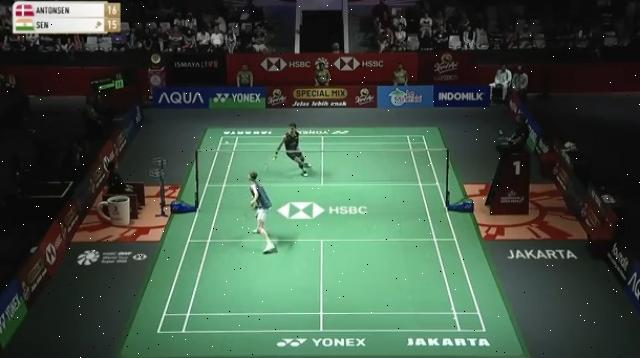Shuttlecock: (222, 138, 232, 148)
